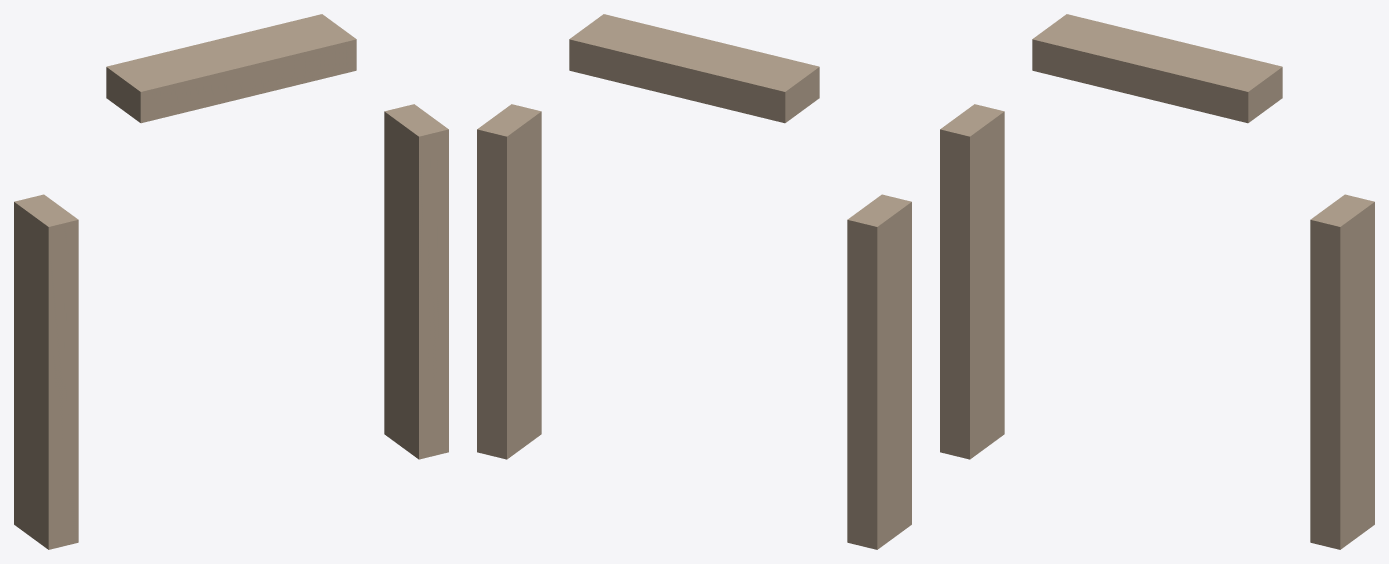
File: struct_gate.glb
The picture shows the model from 3 angles, left to right: view 1: azimuth 30°, elevation 25°; view 2: azimuth 150°, elevation 25°; view 3: azimuth 330°, elevation 25°; orthographic projection.
Parts seen in each view (by area): view 1: struct_gate; view 2: struct_gate; view 3: struct_gate.
Part boxes in pixels (x1,y1,x2,y2): struct_gate: [14, 14, 448, 549]; struct_gate: [477, 14, 911, 549]; struct_gate: [940, 14, 1374, 549].
Size of the model in its own units: 1.34 by 1.39 by 0.2.
